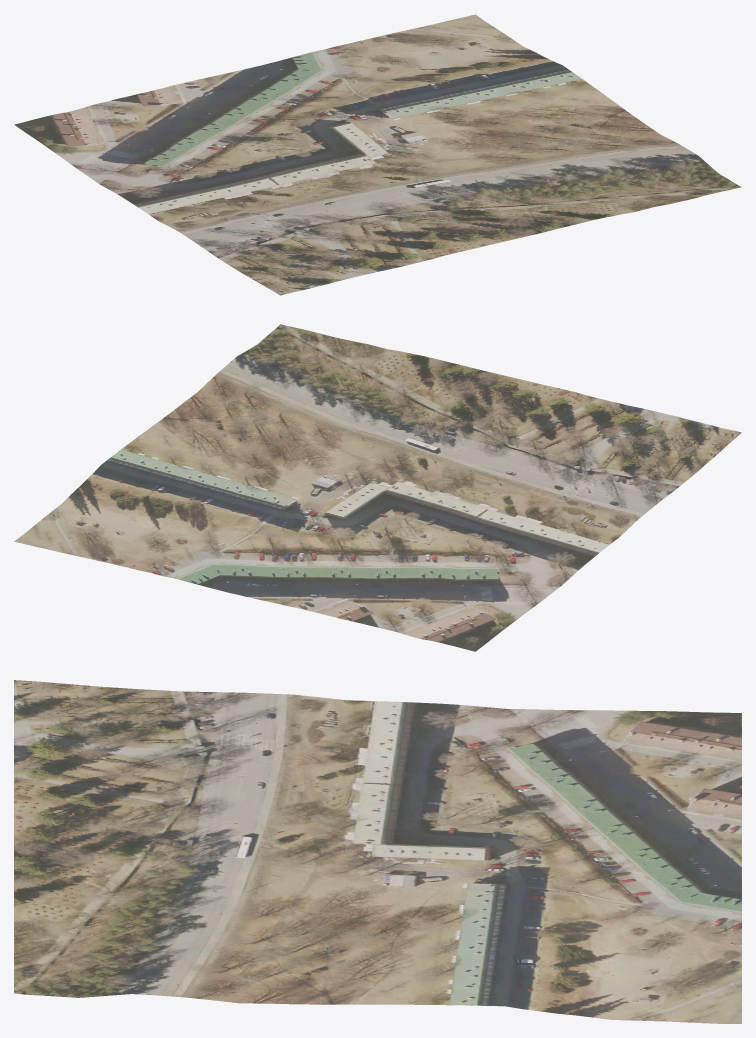
The model's file is CM_Terrain_24489025_6820613.fbx.
3 renders of one model, top to bottom at view 1: azimuth 30°, elevation 25°; view 2: azimuth 150°, elevation 25°; view 3: azimuth 270°, elevation 25°, orthographic. The views are drawn at different scales.
Parts seen in each view (by area): view 1: CM_Terrain_24489025_6820613_LOD0; view 2: CM_Terrain_24489025_6820613_LOD0; view 3: CM_Terrain_24489025_6820613_LOD0.
Part boxes in pixels (left/top/right/bottom): CM_Terrain_24489025_6820613_LOD0: left=14, top=14, right=741, bottom=295; CM_Terrain_24489025_6820613_LOD0: left=14, top=324, right=741, bottom=651; CM_Terrain_24489025_6820613_LOD0: left=14, top=680, right=741, bottom=1023.
Size of what is drawn, in the model's own units: 205 by 11.35 by 205.
